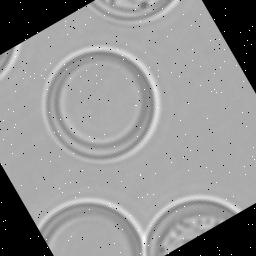picoshell: (43, 46, 160, 162), (37, 197, 146, 256), (145, 195, 242, 256), (89, 0, 180, 24), (0, 44, 22, 80)
